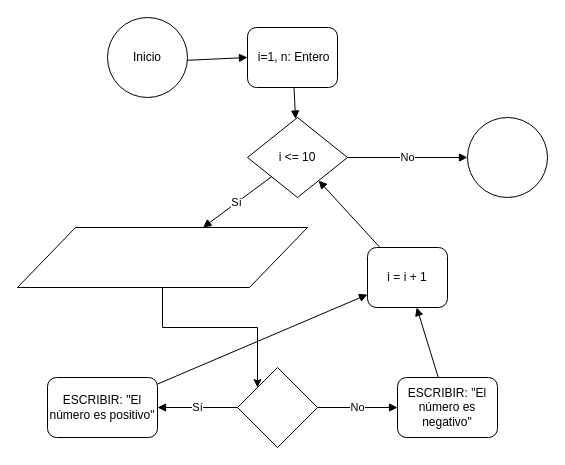
This 565x465 diagram has some shape labels left out. Here are the shapes that lost their labels. From the top down, the box of each, then its label:
(466, 116, 548, 198): Fin
(16, 226, 308, 288): ESCRIBIR: "Introduce un número" LEER: n
(236, 366, 318, 448): n >= 0
